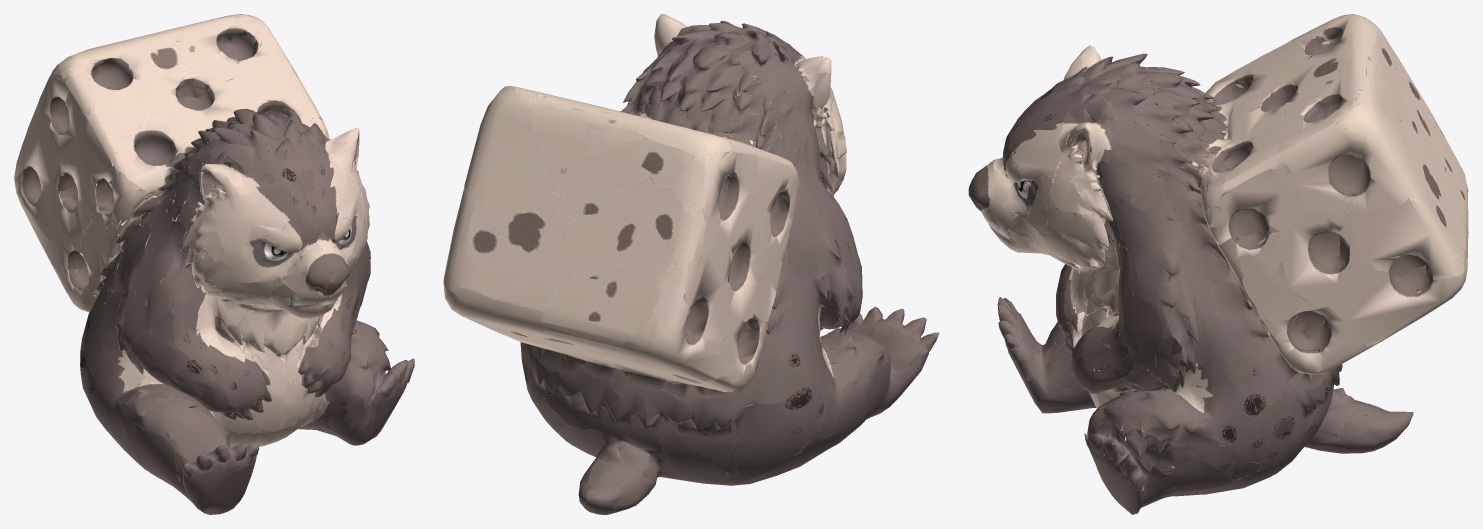
The picture shows the model from 3 angles, left to right: view 1: azimuth 30°, elevation 25°; view 2: azimuth 150°, elevation 25°; view 3: azimuth 270°, elevation 25°; orthographic projection. The views are drawn at different scales.
Visible parts, largest first — view 1: Mesh_0; view 2: Mesh_0; view 3: Mesh_0.
Part boxes in pixels (<box>): Mesh_0: <box>14,14,414,514</box>; Mesh_0: <box>443,14,939,514</box>; Mesh_0: <box>968,14,1468,514</box>.
Size of the model in its own units: 1.39 by 1.66 by 1.9.
Materials: 1 (1 with a texture image).
